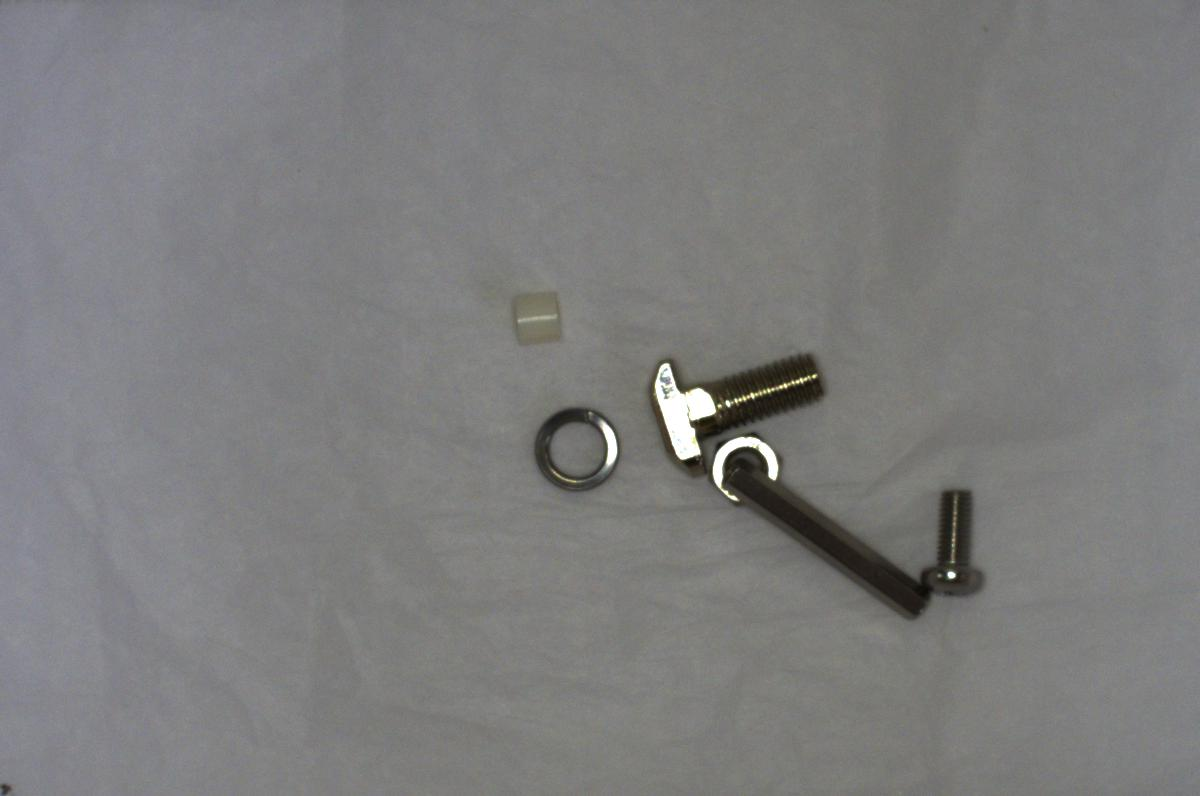Double hexagonal column: (720, 458, 929, 621)
Hexagon nut: (706, 422, 791, 512)
Plastic cushion pillar: (496, 273, 578, 354)
Round head screw: (917, 472, 994, 609)
Spring washer: (512, 400, 629, 500)
T-shaped screw: (642, 339, 837, 485)
